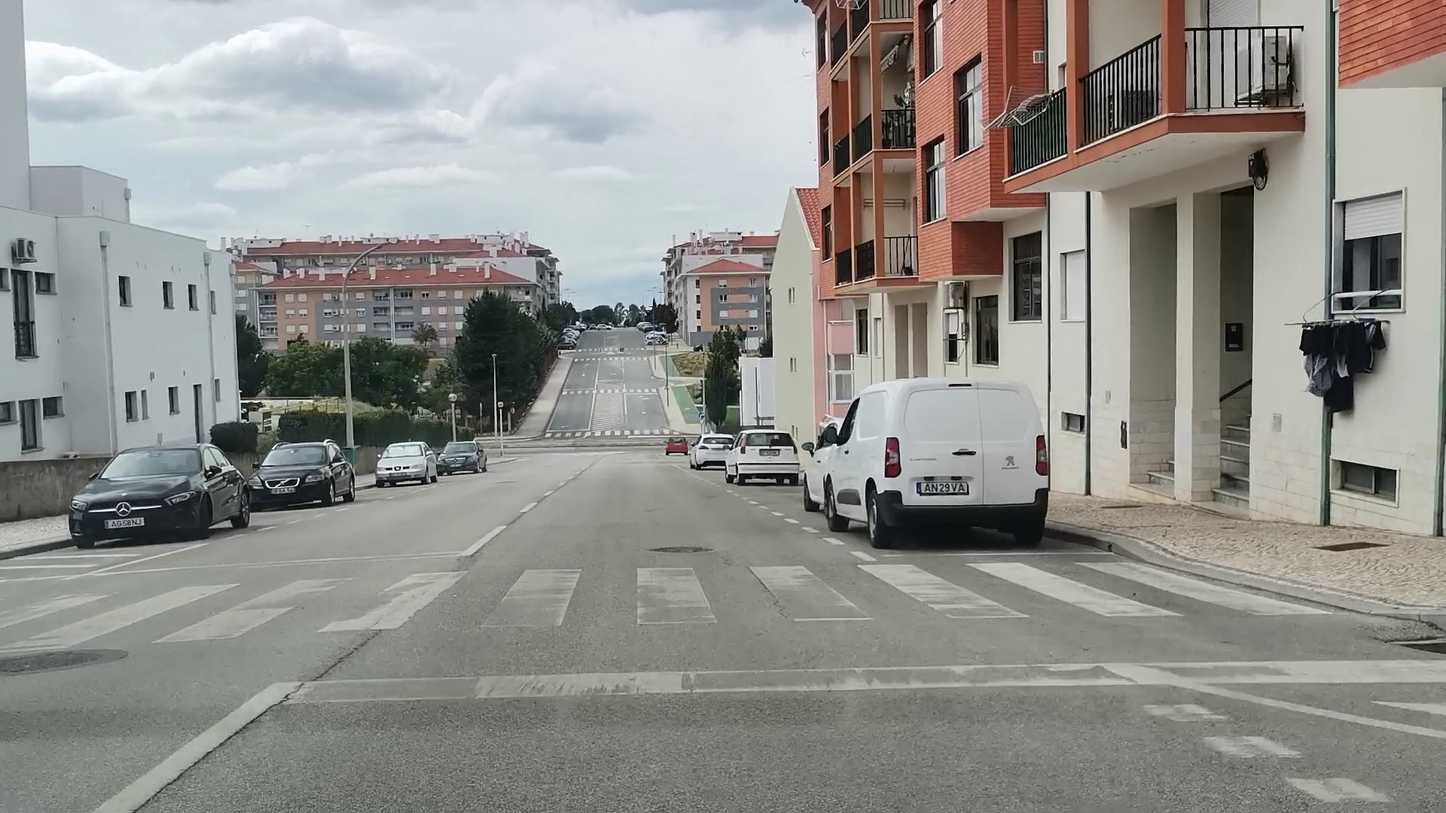Stairs: (0, 557, 1322, 646)
